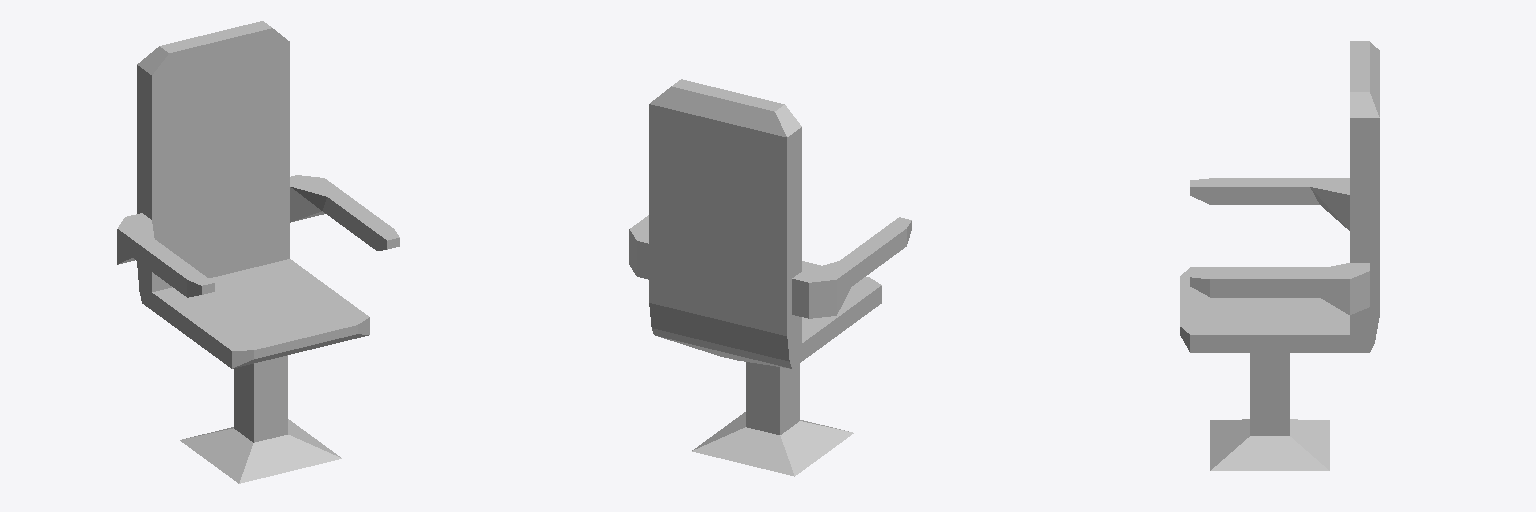
File: ControlChair.obj
The picture shows the model from 3 angles: view 1: azimuth 30°, elevation 25°; view 2: azimuth 150°, elevation 25°; view 3: azimuth 270°, elevation 25°; orthographic projection.
Visible parts, largest first — view 1: ControlChair; view 2: ControlChair; view 3: ControlChair.
Boxes of the visible parts, x1,y1,x2,y2 form: ControlChair: [117, 21, 399, 483]; ControlChair: [629, 79, 911, 476]; ControlChair: [1180, 41, 1379, 470].
Bounding box in the file's own units: 1.2 × 2.1 × 1.